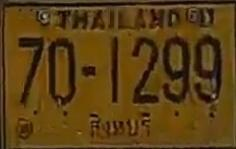0: (48, 37, 76, 106)
1: (110, 36, 118, 103)
2: (132, 37, 158, 103)
7: (18, 36, 44, 106)
9: (194, 34, 222, 104), (162, 36, 189, 102)
SBR: (83, 110, 155, 139)
